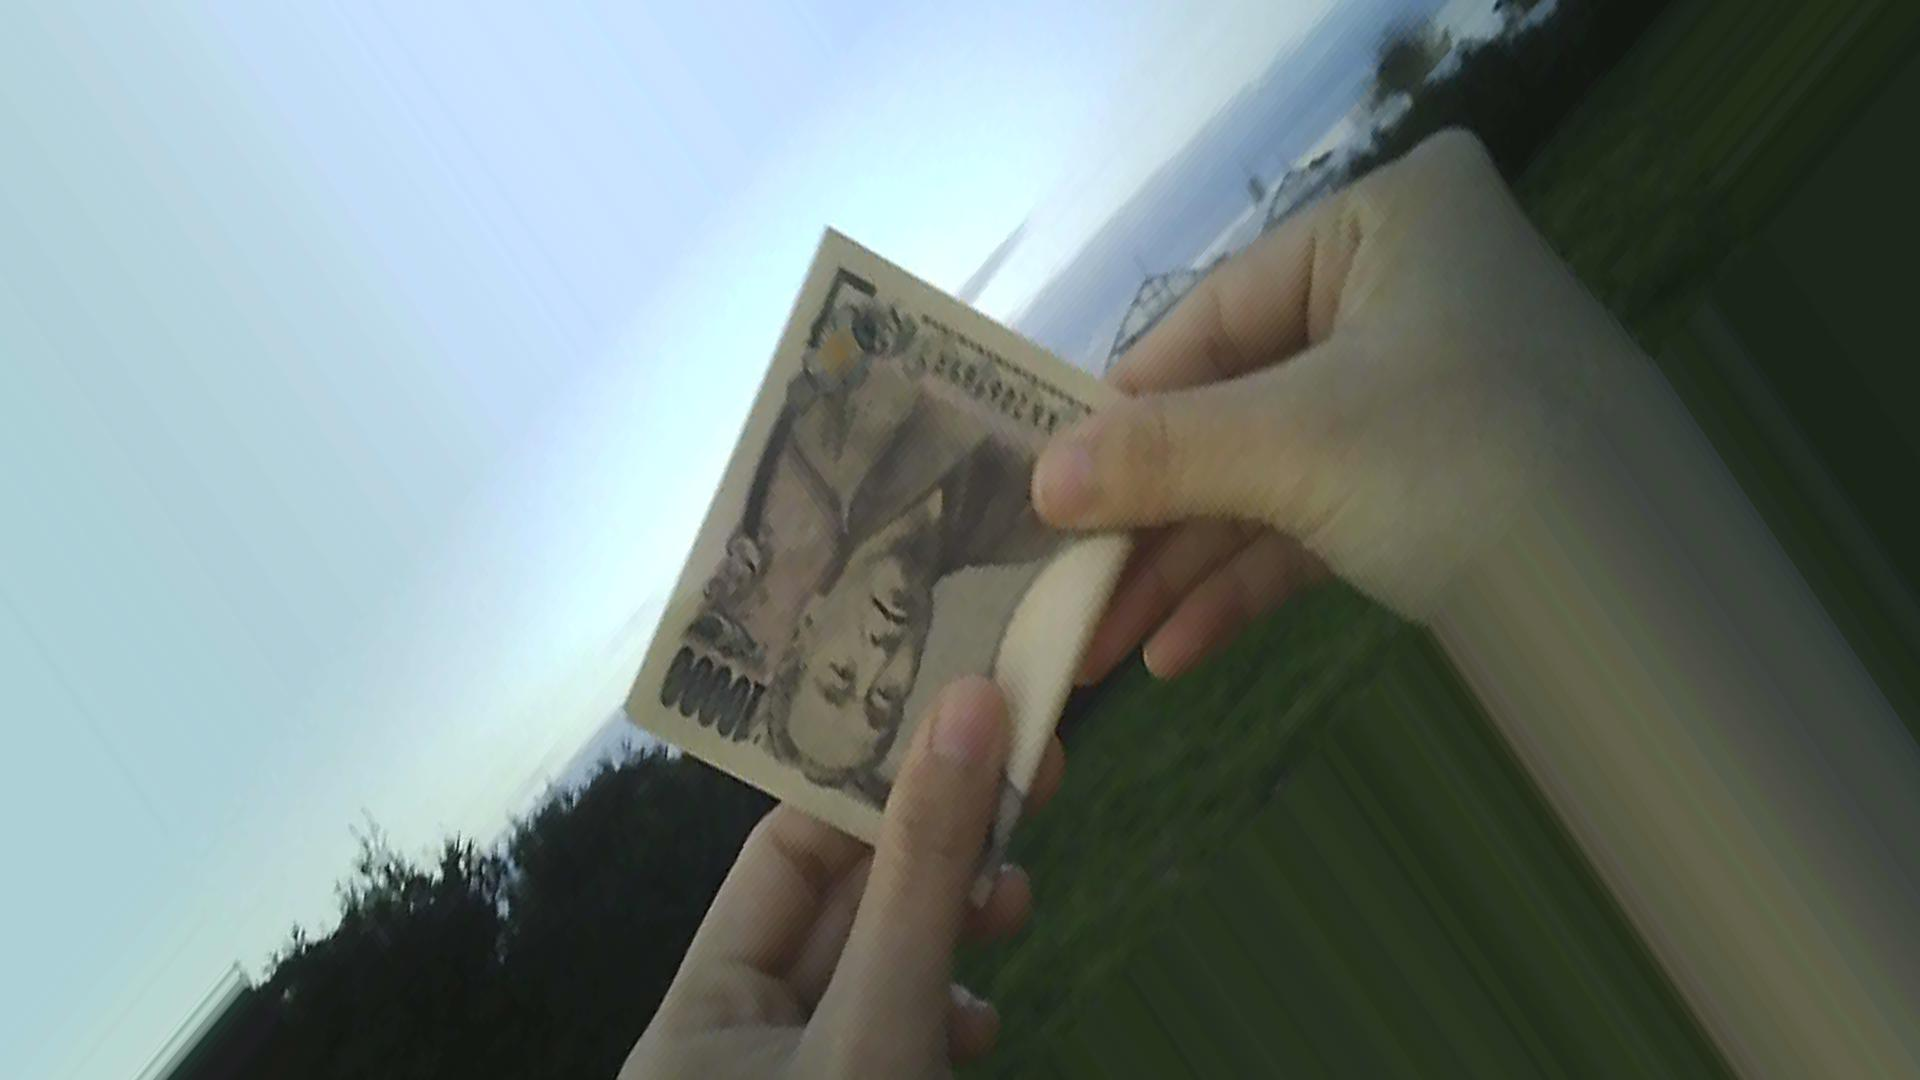10,000 Yen: (585, 219, 1160, 928)
